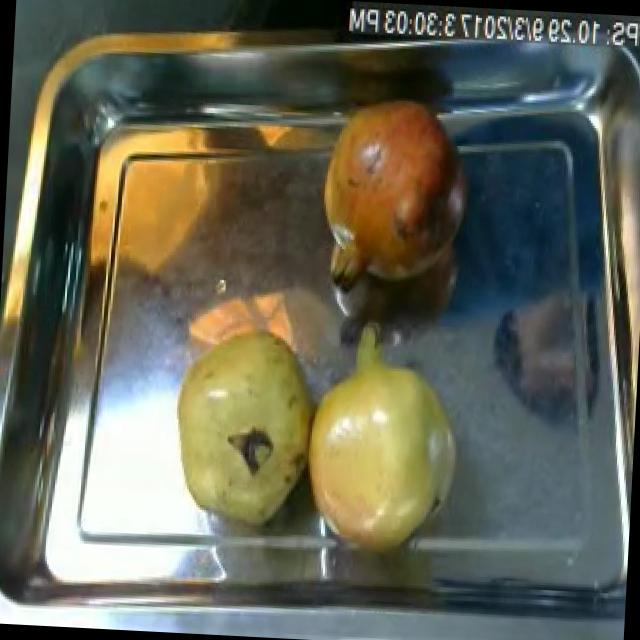fruit: (289, 327, 479, 576), (307, 84, 478, 303), (161, 310, 324, 538)
